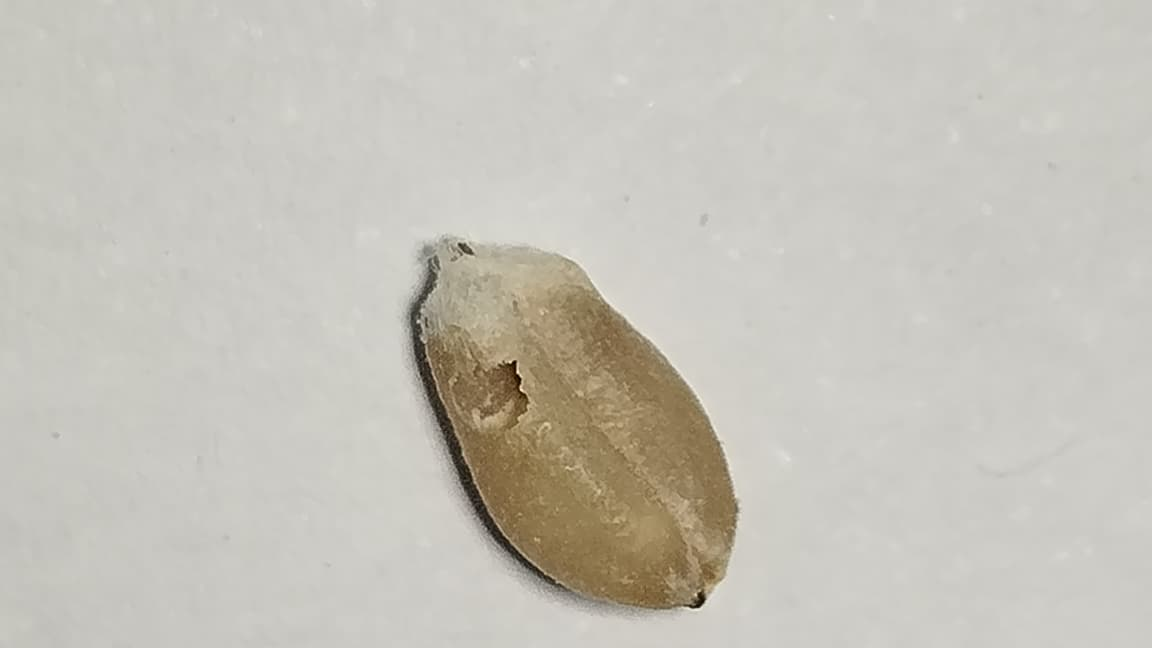damage: (419, 239, 736, 607)
insectdamage: (424, 324, 547, 435)
